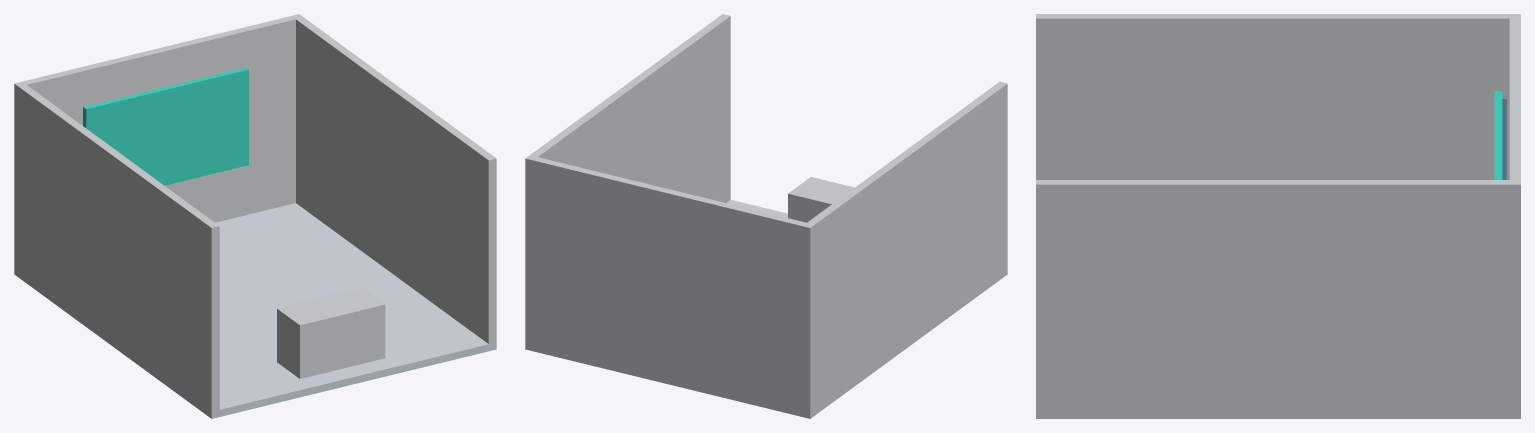
3 views of the same model, side by side, from view 1: azimuth 30°, elevation 25°; view 2: azimuth 150°, elevation 25°; view 3: azimuth 270°, elevation 25° (orthographic). The views are drawn at different scales.
Parts seen in each view (by area): view 1: Exhibition Booth Concept; view 2: Exhibition Booth Concept; view 3: Exhibition Booth Concept.
Part boxes in pixels (x1,y1,x2,y2): Exhibition Booth Concept: (14, 14, 496, 418); Exhibition Booth Concept: (525, 14, 1007, 418); Exhibition Booth Concept: (1036, 14, 1520, 418).
Bounding box in the file's own units: 5 × 3.2 × 6.
